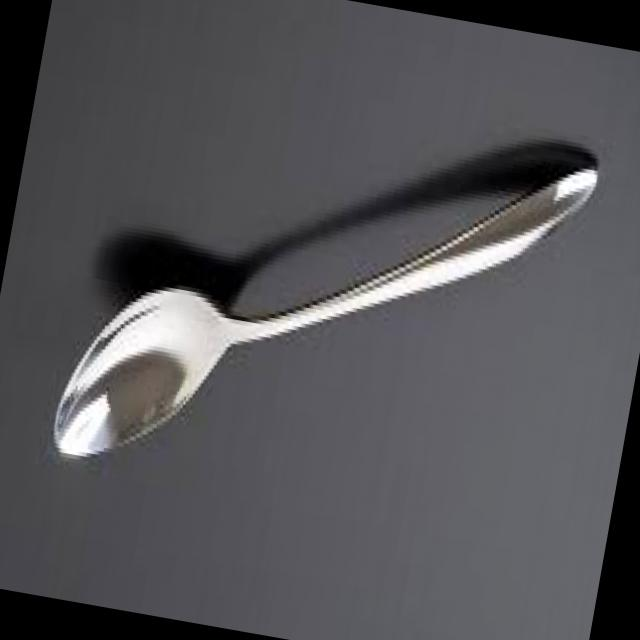spoon: (44, 69, 608, 552)
